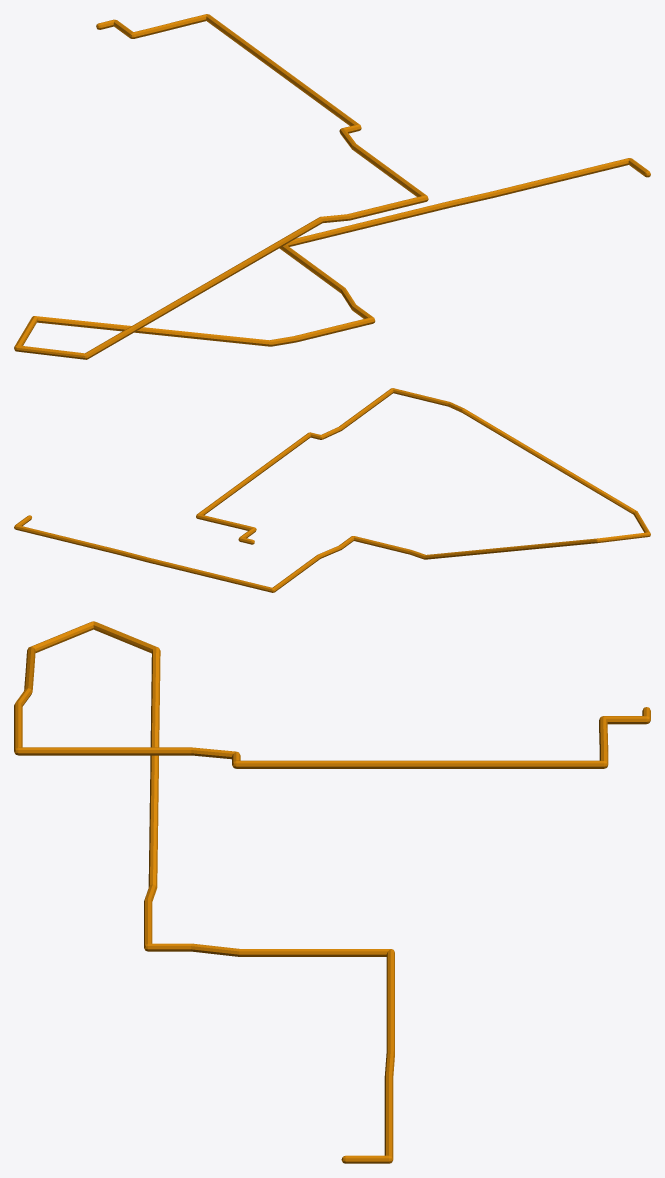
3 renders of one model, top to bottom at view 1: azimuth 30°, elevation 25°; view 2: azimuth 150°, elevation 25°; view 3: azimuth 270°, elevation 25°, orthographic. The views are drawn at different scales.
Size of the model in its own units: 2406 by 520 by 1472.
